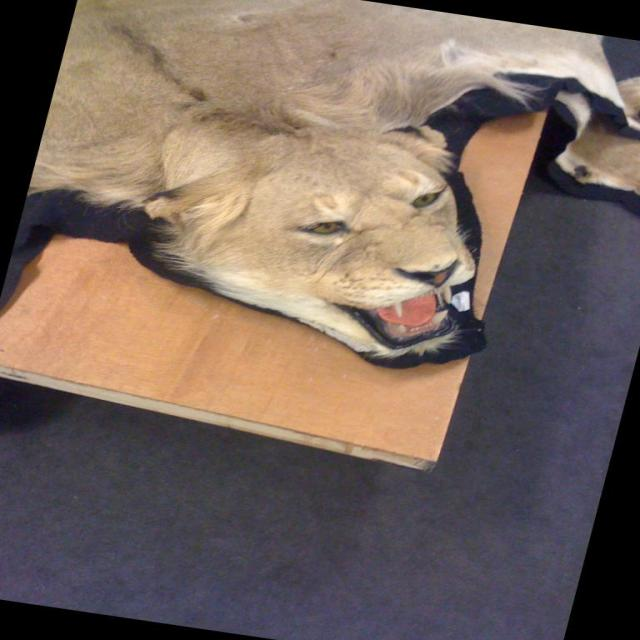Lion: (0, 0, 639, 399)
